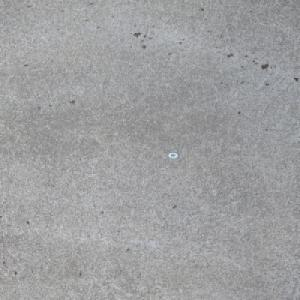Washer: (167, 152, 179, 158)
